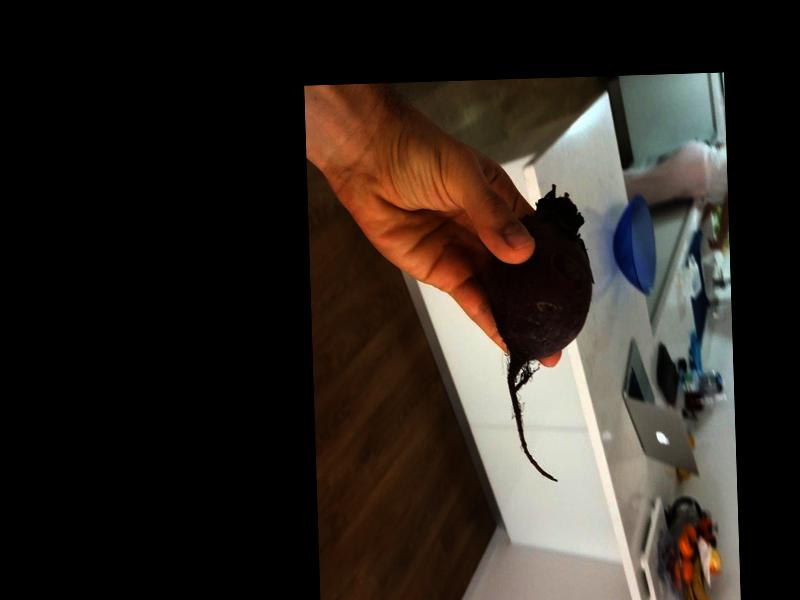Beet: (486, 186, 598, 483)
